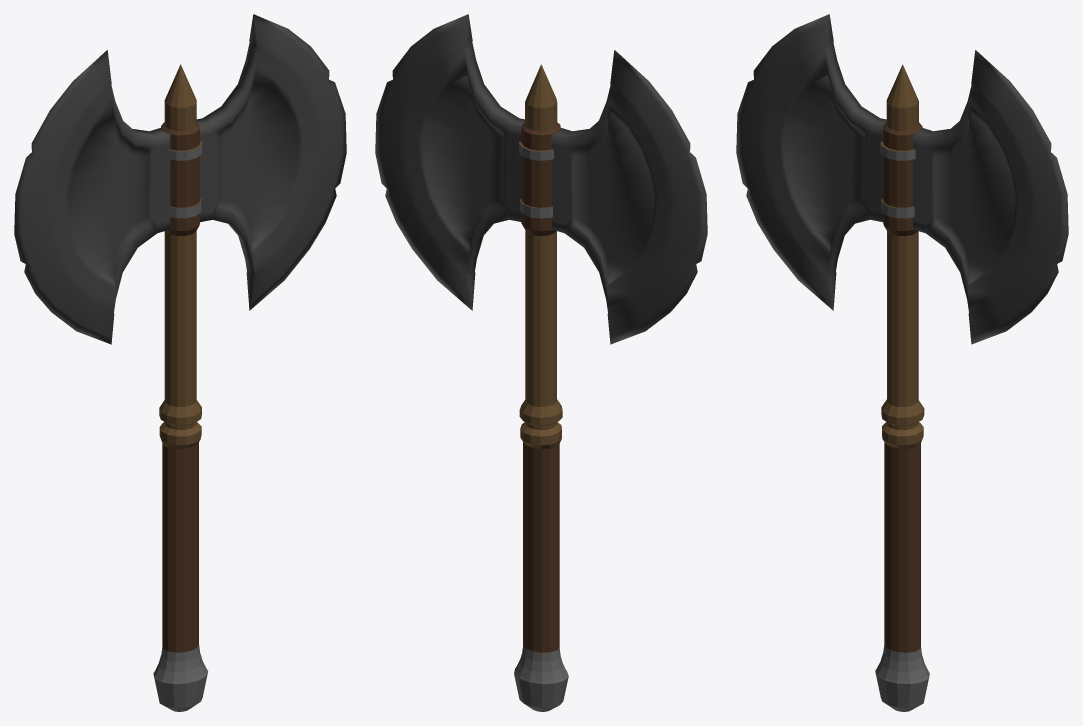
Rendered from axe.fbx.
3 views of the same model, side by side, from view 1: azimuth 30°, elevation 25°; view 2: azimuth 150°, elevation 25°; view 3: azimuth 330°, elevation 25° (orthographic).
Parts seen in each view (by area): view 1: axe; view 2: axe; view 3: axe.
Boxes of the visible parts, x1,y1,x2,y2 form: axe: [14, 14, 346, 711]; axe: [375, 14, 707, 711]; axe: [736, 14, 1068, 711].
Size of the model in its own units: 243 by 471 by 29.95.
